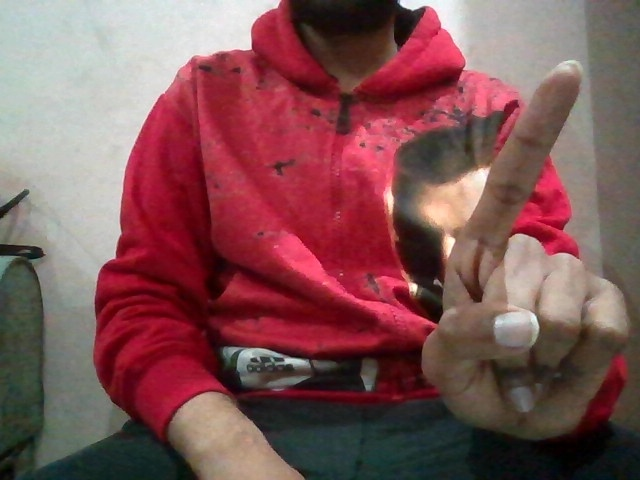D: (411, 48, 636, 445)
